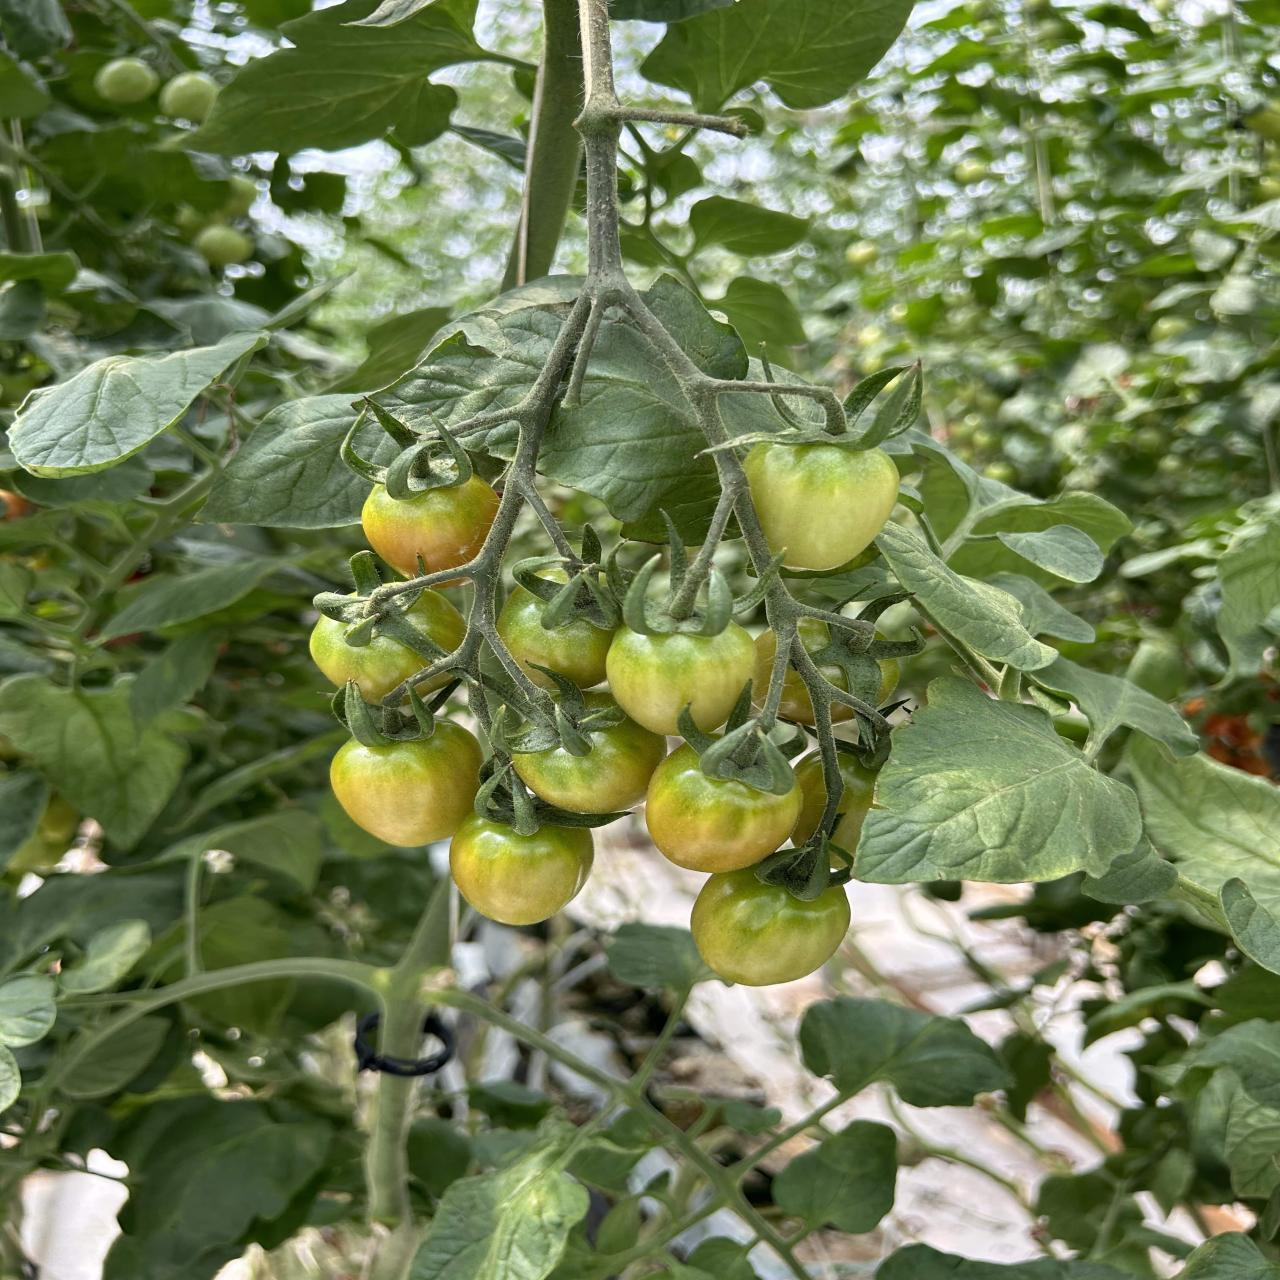Hoja: (182, 0, 499, 156), (374, 275, 586, 477), (115, 1095, 335, 1280), (8, 329, 271, 478), (538, 311, 714, 520), (409, 1133, 588, 1280), (799, 996, 1012, 1108), (198, 394, 373, 529), (772, 1119, 898, 1233), (642, 281, 760, 381), (689, 196, 809, 257), (998, 525, 1104, 584), (721, 396, 825, 433), (352, 418, 399, 468)
Hoja rugoso: (855, 676, 1142, 883)
Pedunculo: (504, 0, 583, 282), (576, 0, 628, 291), (373, 880, 452, 1061), (361, 1077, 414, 1260)
Tomate: (645, 744, 803, 873), (743, 444, 899, 571), (331, 722, 482, 846), (692, 867, 850, 986), (606, 622, 756, 735), (497, 557, 619, 688), (450, 813, 593, 925), (512, 712, 667, 813), (361, 475, 499, 578), (309, 613, 427, 704), (401, 591, 464, 647)
